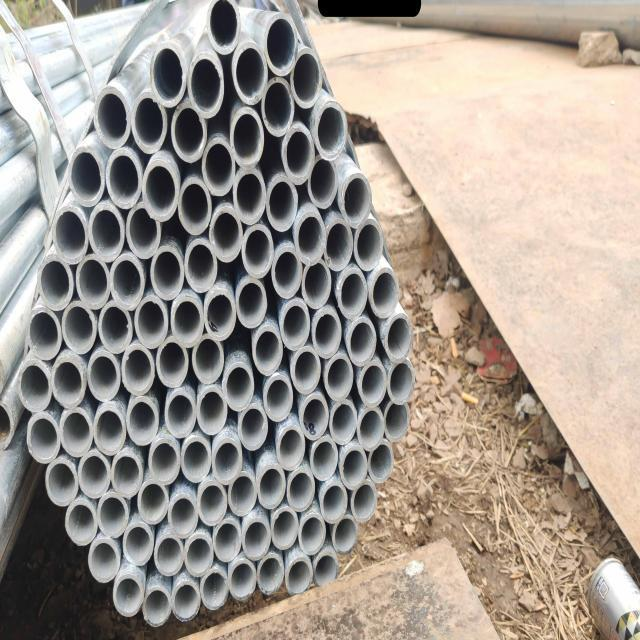pipe: (139, 158, 182, 226), (148, 40, 189, 111), (102, 145, 146, 210), (186, 50, 226, 120), (93, 82, 133, 152), (66, 142, 106, 209), (130, 88, 168, 156), (262, 11, 300, 78), (86, 200, 125, 265), (169, 98, 207, 164), (233, 39, 270, 106), (259, 73, 295, 140), (48, 352, 88, 412), (229, 104, 265, 170), (263, 170, 299, 236), (107, 251, 145, 313), (124, 200, 162, 261), (312, 98, 347, 163), (182, 234, 219, 295), (290, 44, 324, 110), (52, 206, 89, 266), (239, 220, 276, 280), (24, 304, 62, 362), (15, 356, 53, 414), (118, 342, 156, 400), (232, 164, 266, 228), (339, 170, 374, 232), (74, 253, 110, 313), (205, 0, 242, 58), (150, 243, 187, 301), (59, 298, 96, 356), (57, 404, 94, 462), (178, 174, 212, 237), (132, 294, 170, 350), (36, 253, 73, 310), (168, 291, 204, 349), (85, 348, 121, 406), (91, 400, 127, 458), (280, 125, 314, 186), (292, 207, 326, 268), (97, 298, 134, 354), (202, 136, 234, 200), (124, 392, 160, 448), (194, 382, 230, 438), (24, 412, 62, 465), (352, 214, 385, 274), (154, 335, 190, 390), (109, 447, 145, 502), (270, 245, 304, 303), (210, 204, 244, 262), (278, 294, 312, 352), (250, 321, 284, 378), (76, 448, 112, 501), (234, 274, 268, 330), (164, 384, 198, 440), (202, 288, 237, 342), (190, 334, 226, 386), (322, 216, 354, 274), (336, 265, 368, 323), (95, 489, 130, 542), (383, 313, 416, 369), (306, 154, 339, 210), (310, 304, 344, 358), (222, 358, 256, 412), (148, 434, 182, 488), (64, 496, 98, 550), (368, 264, 400, 321), (262, 367, 294, 424), (44, 456, 78, 509), (178, 434, 214, 484), (196, 474, 228, 530), (136, 474, 170, 526), (166, 488, 200, 540), (324, 351, 356, 406), (386, 354, 416, 412), (337, 440, 369, 494), (300, 258, 332, 312), (236, 400, 269, 452), (169, 574, 202, 626), (86, 536, 120, 586), (111, 570, 145, 620), (289, 342, 321, 395), (211, 435, 244, 486), (346, 314, 377, 368), (226, 468, 258, 520), (122, 520, 156, 568), (240, 513, 272, 564), (357, 358, 387, 412), (275, 420, 306, 472), (328, 398, 360, 448), (298, 392, 330, 442), (152, 530, 185, 578), (183, 528, 214, 579), (284, 465, 316, 514), (297, 508, 327, 560), (256, 461, 286, 513), (140, 582, 172, 630), (211, 516, 243, 564), (254, 548, 286, 596), (354, 403, 384, 454), (310, 433, 340, 484), (270, 503, 300, 553), (350, 476, 379, 526), (319, 478, 349, 526), (228, 556, 258, 604), (383, 396, 412, 444), (367, 438, 396, 486), (284, 552, 313, 600), (198, 566, 228, 610), (312, 546, 339, 592), (332, 514, 358, 556), (0, 399, 14, 456)
